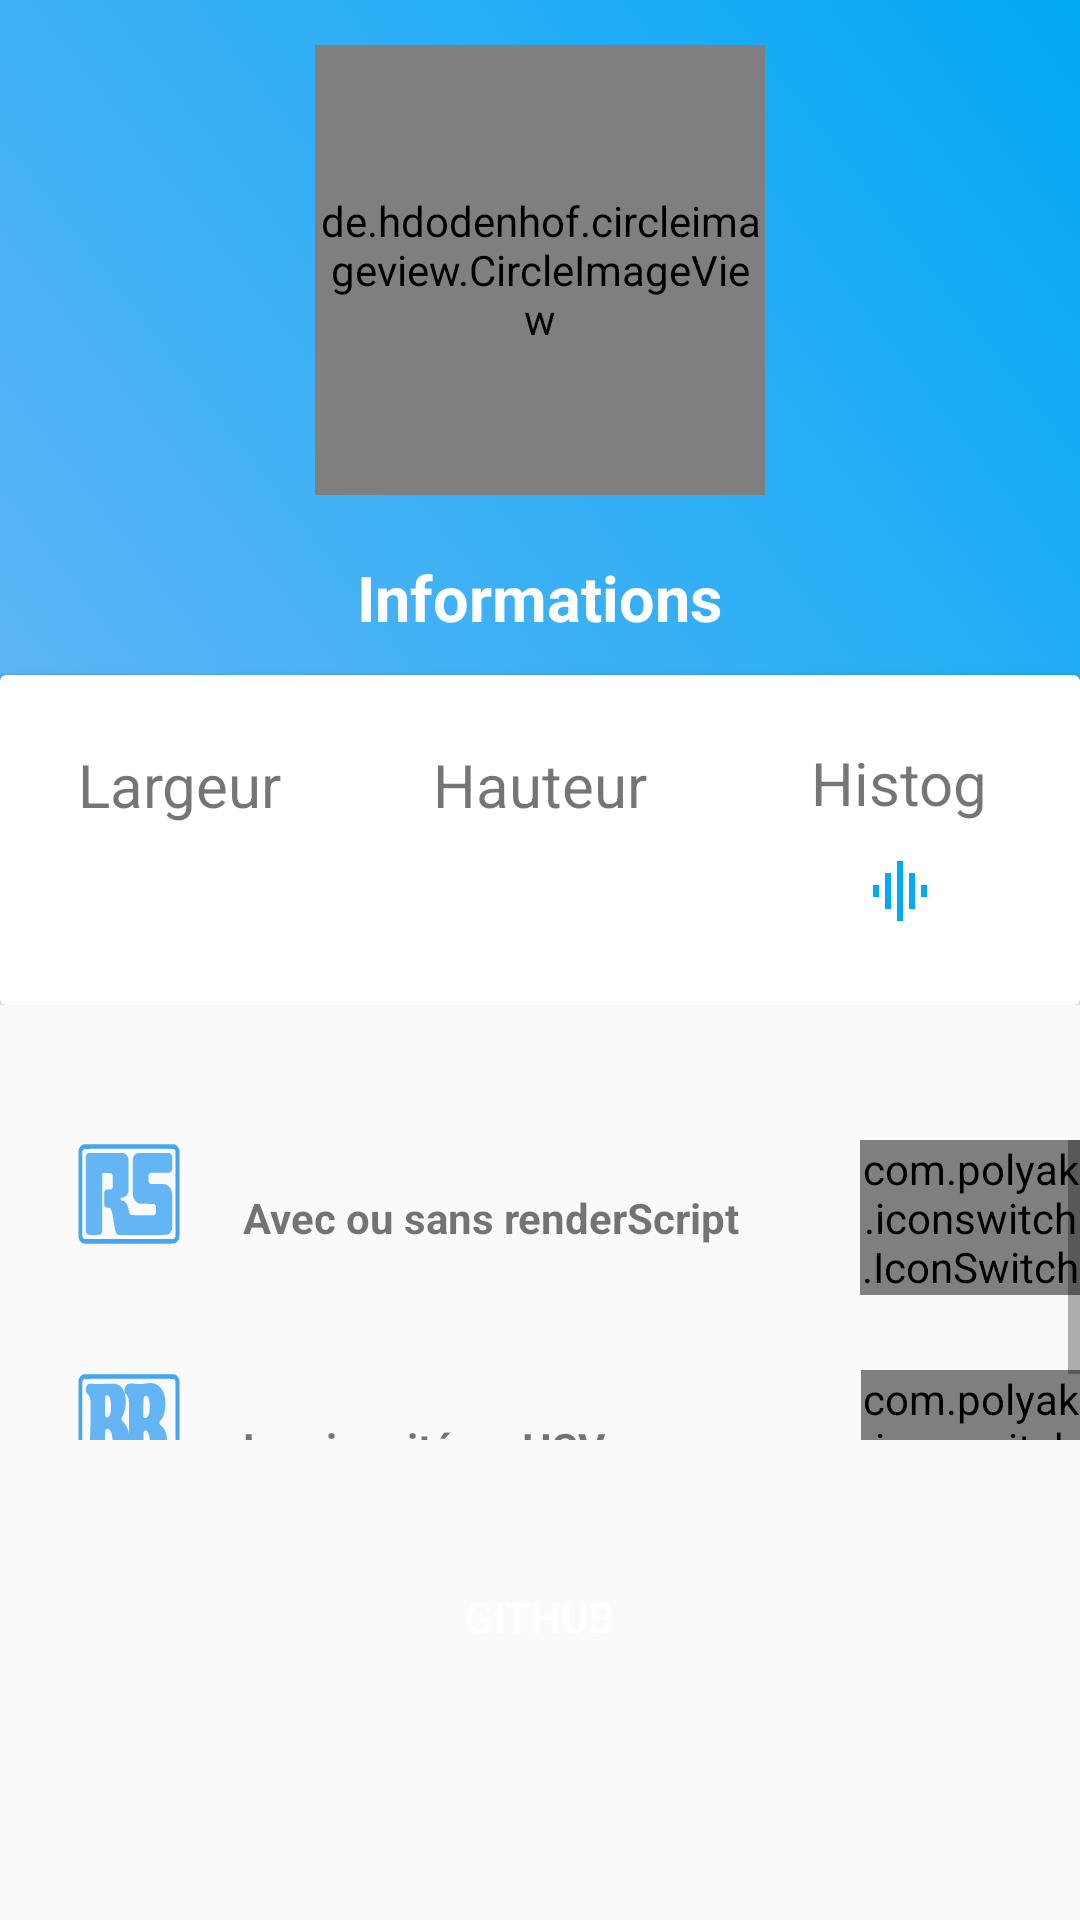

Screen size 1080*1920. Icon name, then its center in pixels as (x,y):
render script switcher icon: (129,1194)
